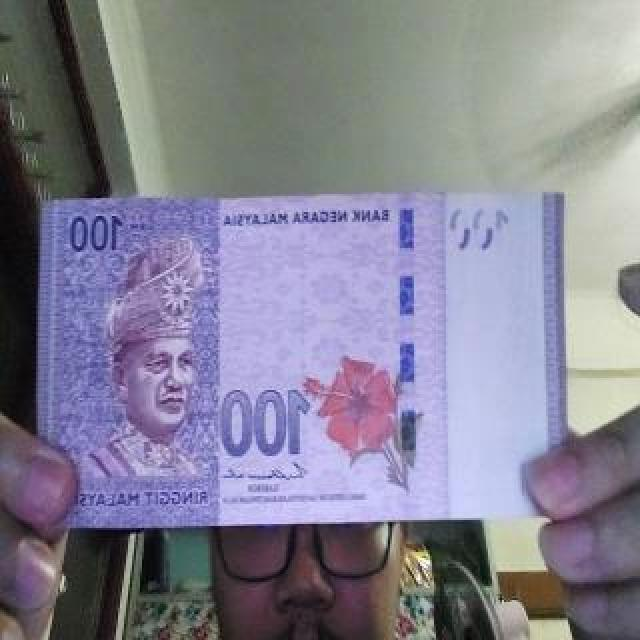100 Ringgit: (18, 182, 569, 526)
